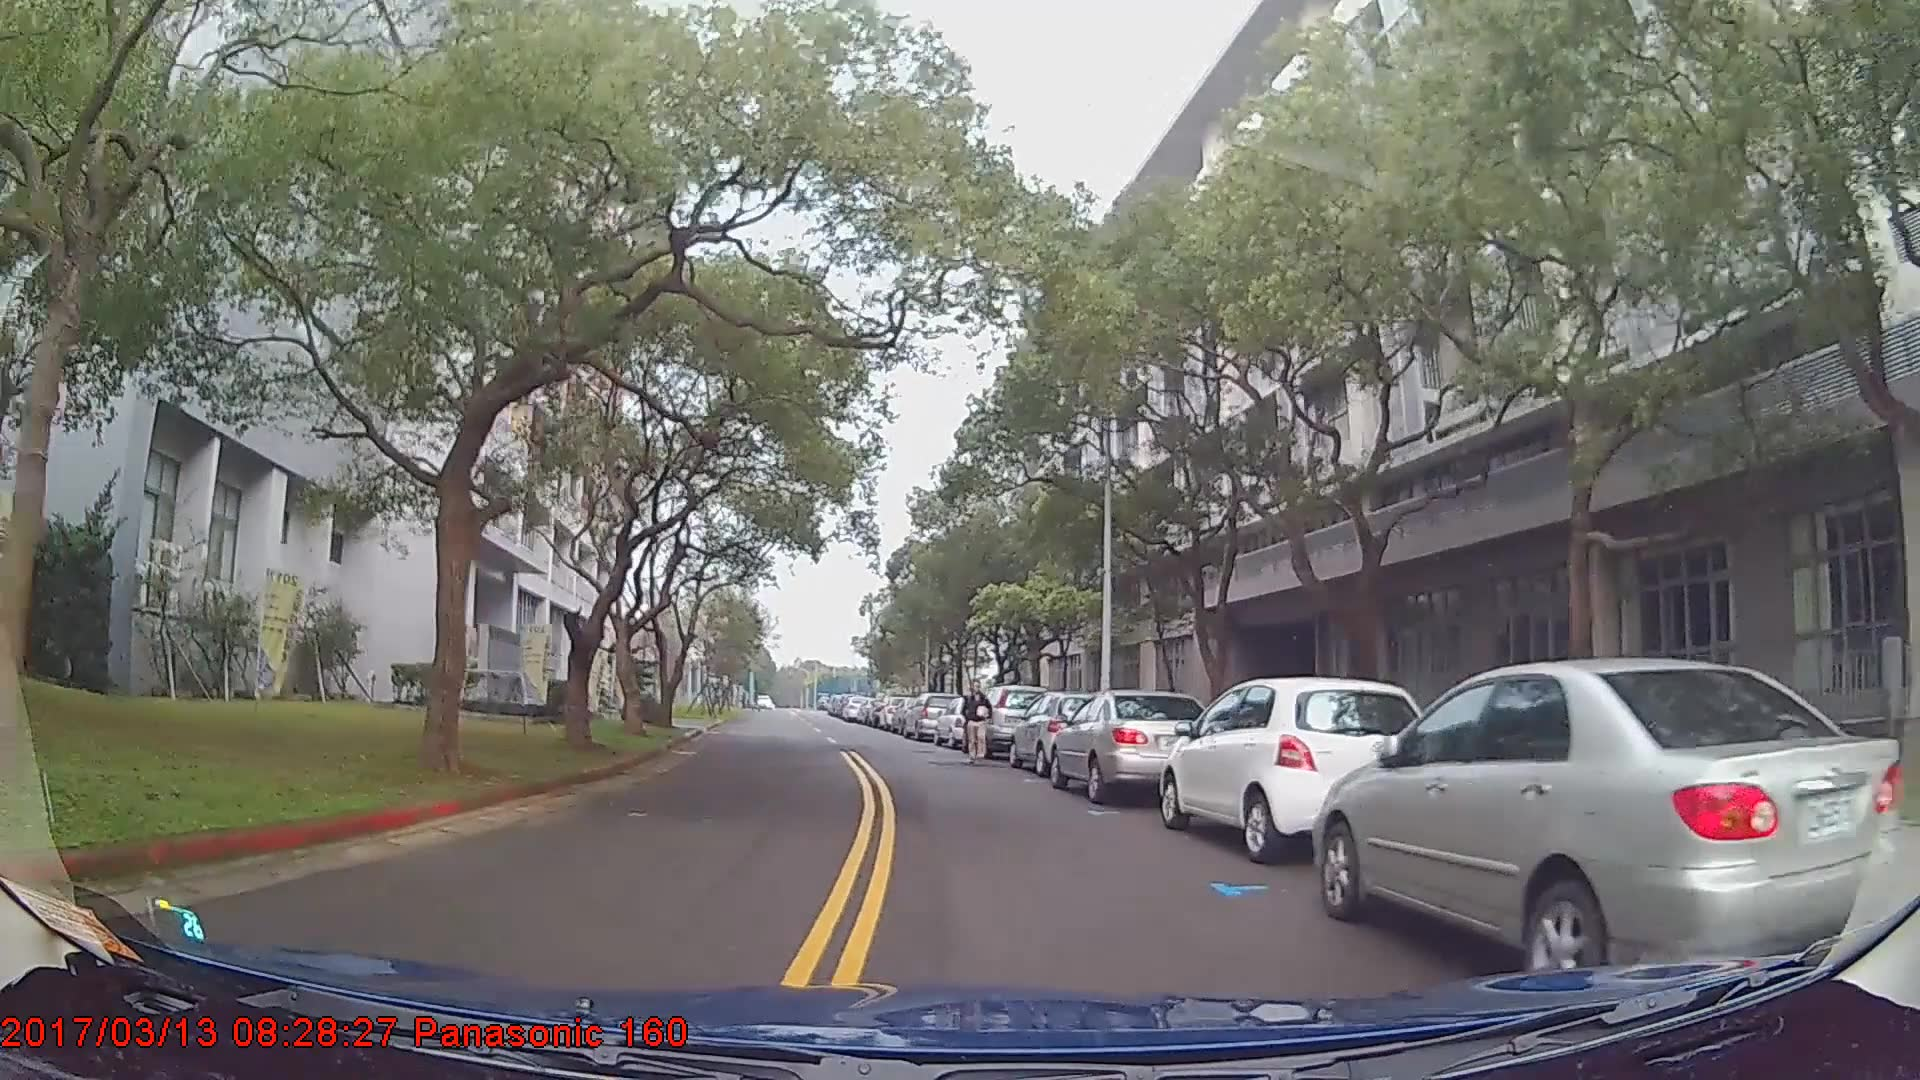pedestrian: (962, 676, 996, 761)
vehicle: (1306, 655, 1904, 1008), (1160, 671, 1433, 861), (1049, 689, 1218, 800), (1009, 687, 1123, 775), (972, 683, 1048, 756), (902, 689, 959, 739)
